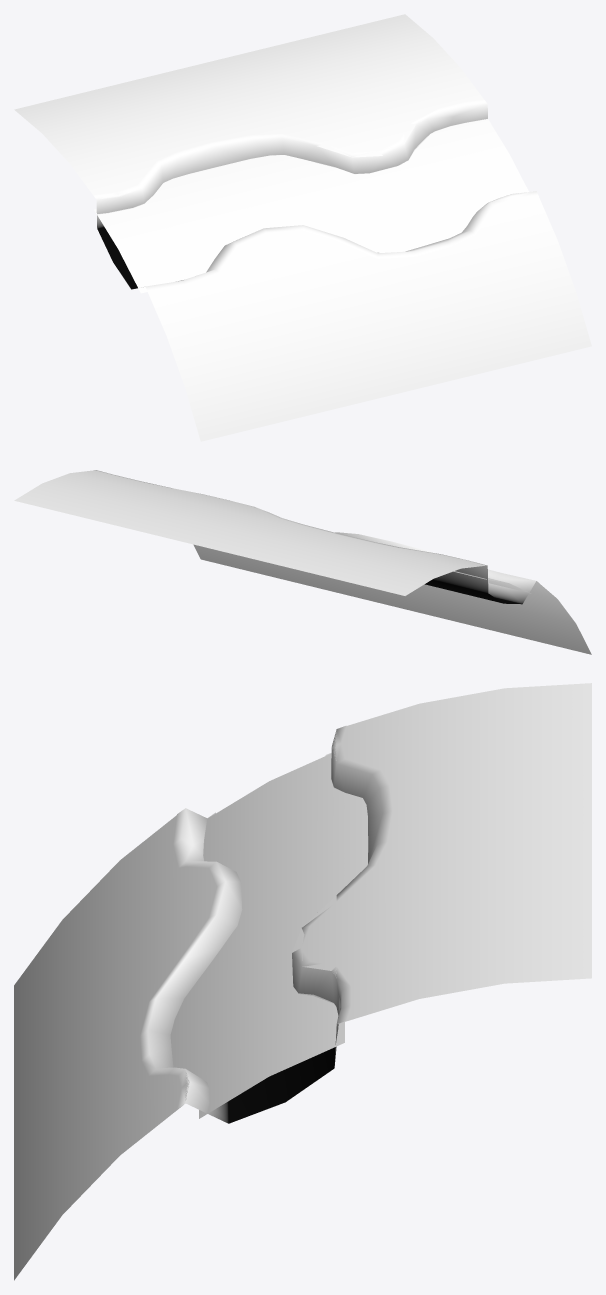
File: grd_Re_1.dae
The picture shows the model from 3 angles, top to bottom: view 1: azimuth 30°, elevation 25°; view 2: azimuth 150°, elevation 25°; view 3: azimuth 270°, elevation 25°; orthographic projection. The views are drawn at different scales.
Parts seen in each view (by area): view 1: grd_Re_1; view 2: grd_Re_1; view 3: grd_Re_1.
Boxes of the visible parts, x1,y1,x2,y2 form: grd_Re_1: (14,14,591,441); grd_Re_1: (14,470,591,654); grd_Re_1: (14,683,591,1280).
Size of the model in its own units: 512 by 244 by 423.
4 materials, 1 textured.
